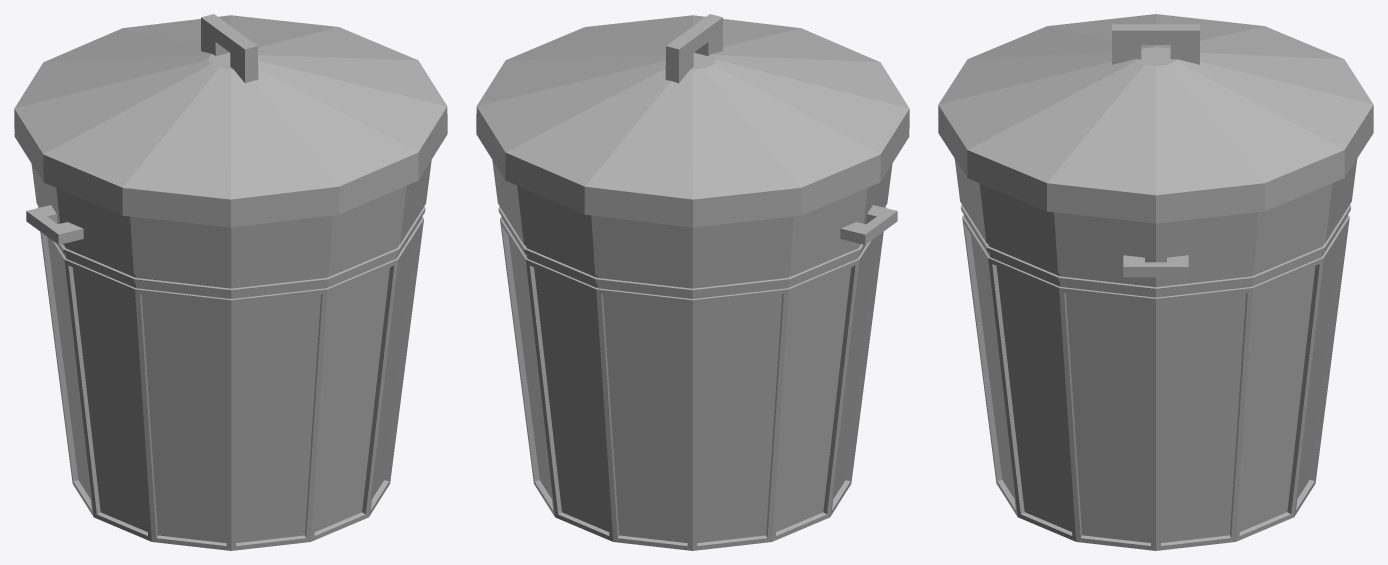
Rendered from Trashcan.fbx.
3 views of the same model, side by side, from view 1: azimuth 30°, elevation 25°; view 2: azimuth 150°, elevation 25°; view 3: azimuth 270°, elevation 25° (orthographic).
Visible parts, largest first — view 1: Trash Can, Trash Can Lid; view 2: Trash Can, Trash Can Lid; view 3: Trash Can, Trash Can Lid.
Part boxes in pixels (x1,y1,x2,y2): Trash Can: (26,160,431,550); Trash Can Lid: (14,14,447,227); Trash Can: (492,160,897,550); Trash Can Lid: (476,14,909,227); Trash Can: (954,159,1357,550); Trash Can Lid: (938,14,1373,223).
Bounding box in the file's own units: 55.98 × 64.22 × 55.69.
